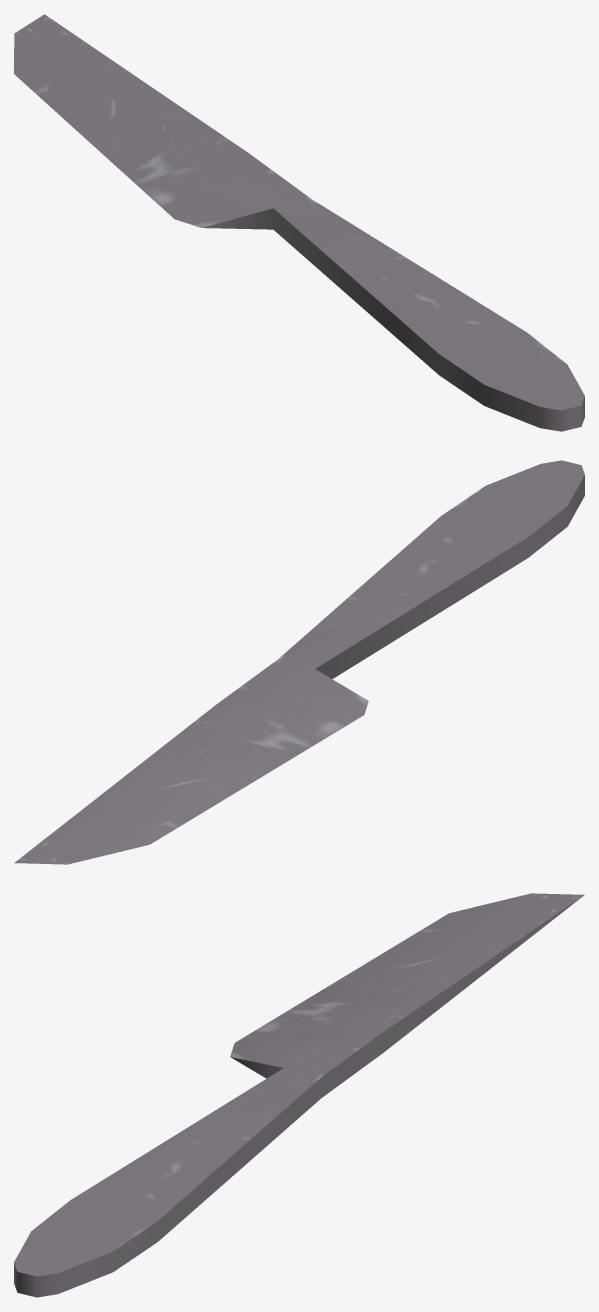
File: Table_Knife.gltf
3 views of the same model, one above another, from view 1: azimuth 30°, elevation 25°; view 2: azimuth 150°, elevation 25°; view 3: azimuth 330°, elevation 25° (orthographic).
Visible parts, largest first — view 1: Table_Knife; view 2: Table_Knife; view 3: Table_Knife.
Part boxes in pixels (bbox=[...]): Table_Knife: bbox=[14, 14, 584, 431]; Table_Knife: bbox=[14, 460, 584, 864]; Table_Knife: bbox=[14, 893, 584, 1297].
Bounding box in the file's own units: 0.0417 × 0.00616 × 0.2866.
1 material, 1 textured.
